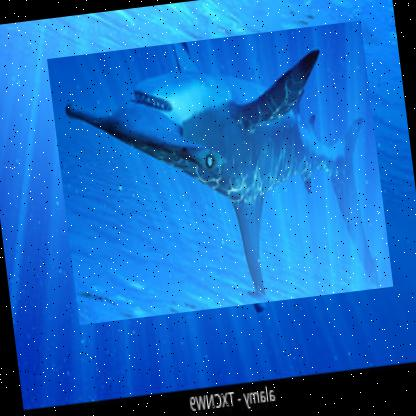hammerhead_Shark: (46, 20, 393, 326)
